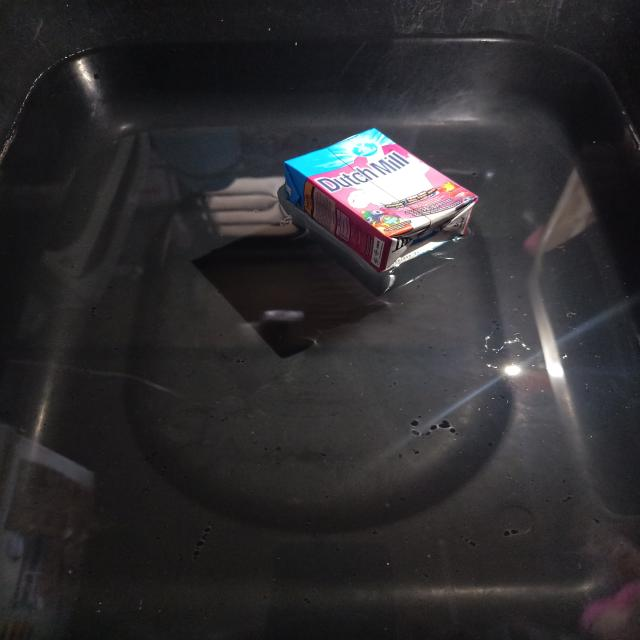Cardboard Box: (284, 128, 477, 275)
